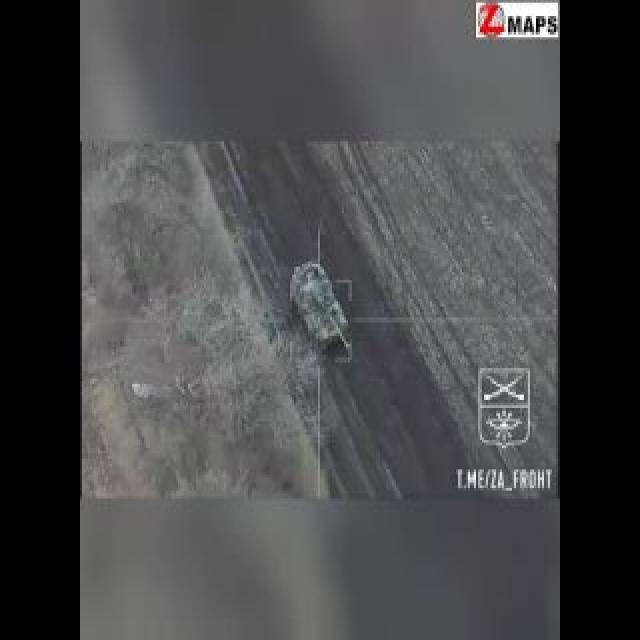BRT: (289, 260, 349, 351)
